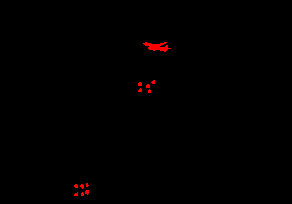Target: (143, 42, 171, 52), (80, 184, 84, 189), (85, 190, 89, 195), (151, 80, 155, 84), (138, 82, 142, 86), (146, 84, 150, 88), (138, 88, 142, 92), (74, 184, 78, 188), (74, 192, 78, 196), (148, 89, 151, 93), (86, 183, 89, 187), (81, 192, 84, 196)
